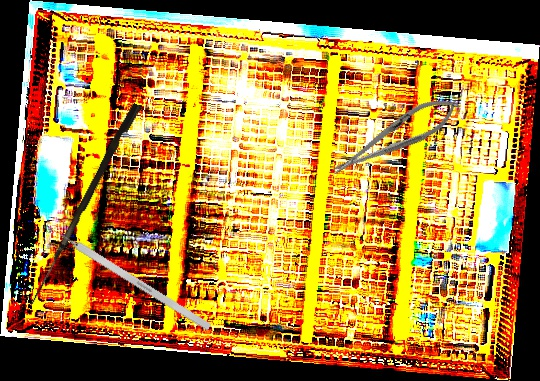Hook Surgical: (29, 100, 142, 311), (44, 221, 212, 332)
Needle Holder: (325, 87, 466, 186)
